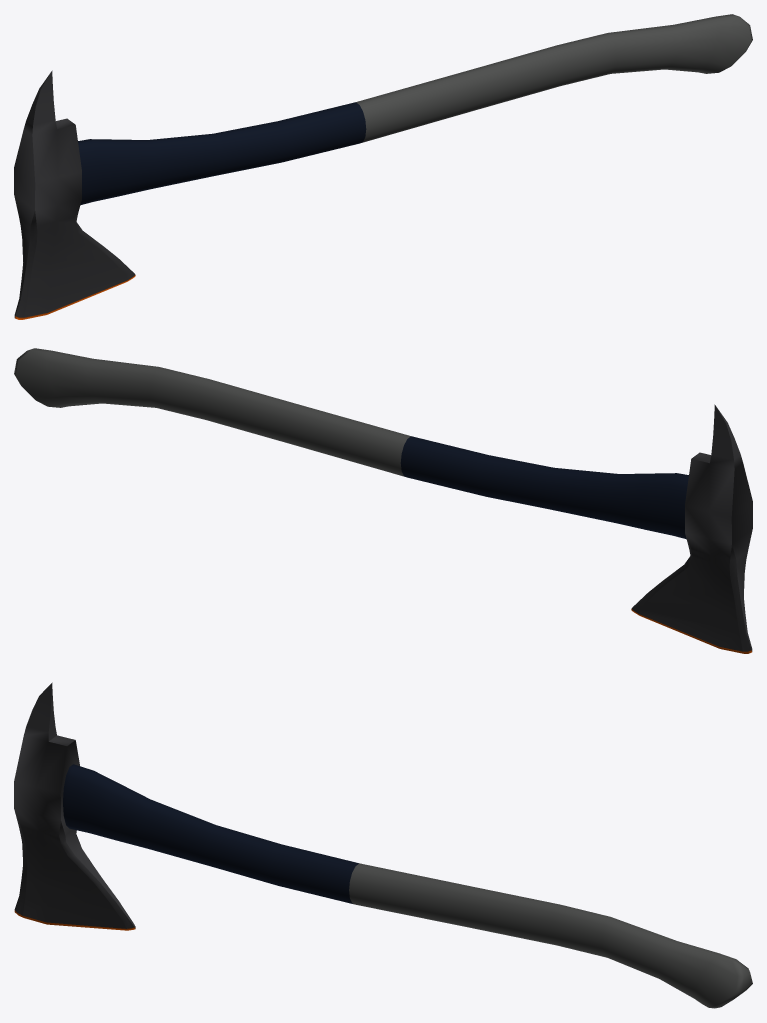
Rendered from Axe.fbx.
The picture shows the model from 3 angles, top to bottom: view 1: azimuth 30°, elevation 25°; view 2: azimuth 150°, elevation 25°; view 3: azimuth 330°, elevation 25°; orthographic projection.
Parts seen in each view (by area): view 1: Axe; view 2: Axe; view 3: Axe.
Part boxes in pixels (x1,y1,x2,y2): Axe: (14,14,752,319); Axe: (14,348,752,653); Axe: (14,682,752,1008).
Bounding box in the file's own units: 116 × 36.84 × 5.92.
